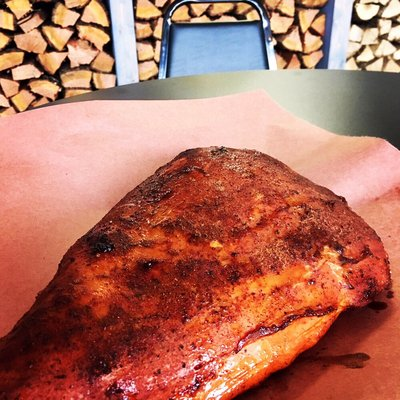curry: (0, 64, 398, 400)
pasta: (157, 0, 271, 81)
sandwich: (5, 145, 395, 400)
